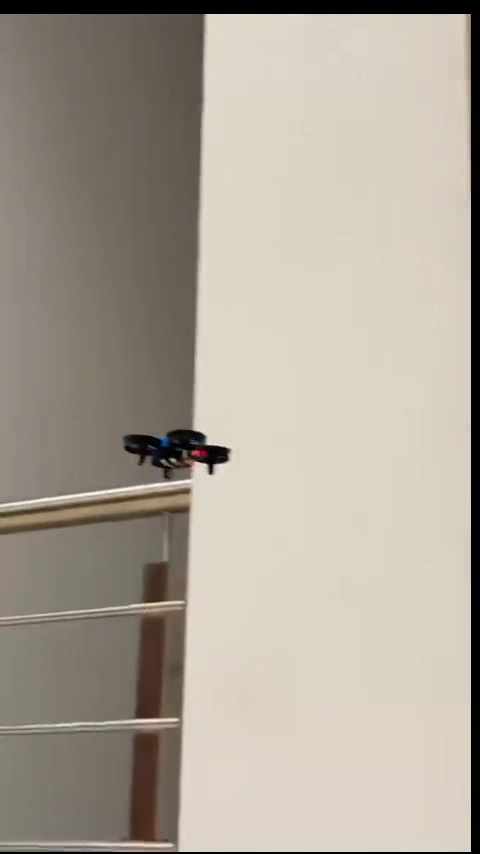drone: (121, 424, 227, 479)
